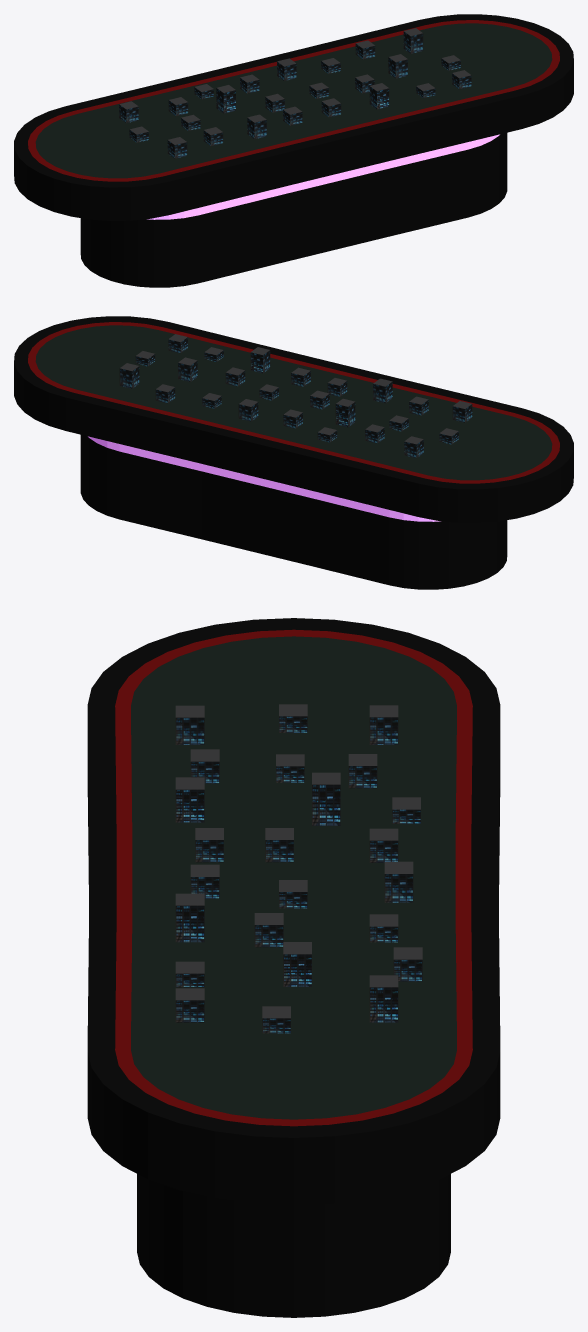
File: mafia-table.glb
The picture shows the model from 3 angles, top to bottom: view 1: azimuth 30°, elevation 25°; view 2: azimuth 150°, elevation 25°; view 3: azimuth 270°, elevation 25°; orthographic projection. The views are drawn at different scales.
Parts seen in each view (by area): view 1: table_poker.001, Cube.019; view 2: table_poker.001, Cube.019; view 3: table_poker.001, Cube.019.
Boxes of the visible parts, <box> form: table_poker.001: <box>14,14,573,287</box>; Cube.019: <box>119,28,471,158</box>; table_poker.001: <box>14,316,573,589</box>; Cube.019: <box>119,334,472,458</box>; table_poker.001: <box>87,618,500,1317</box>; Cube.019: <box>175,704,422,1033</box>.
Size of what is drawn, in the model's own units: 5.32 by 1.35 by 1.78.
Materials: 3 (2 with a texture image).
